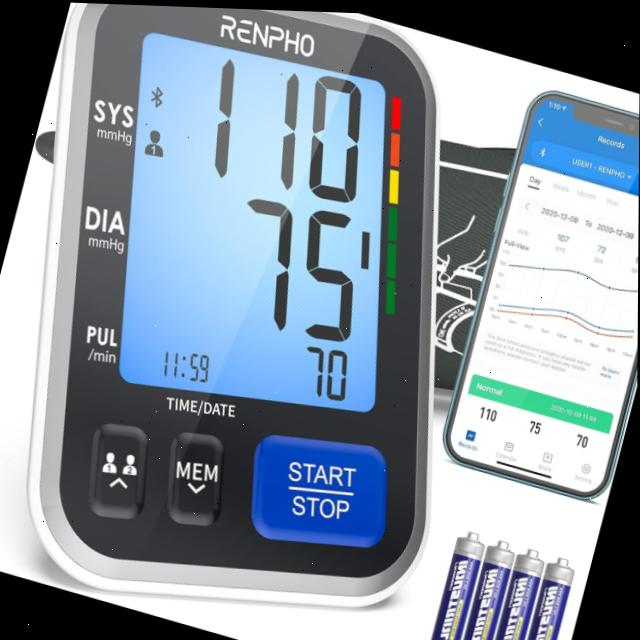dia: (218, 190, 374, 346)
pul: (293, 341, 360, 403)
ssd: (120, 27, 385, 410)
sys: (195, 53, 379, 206)
